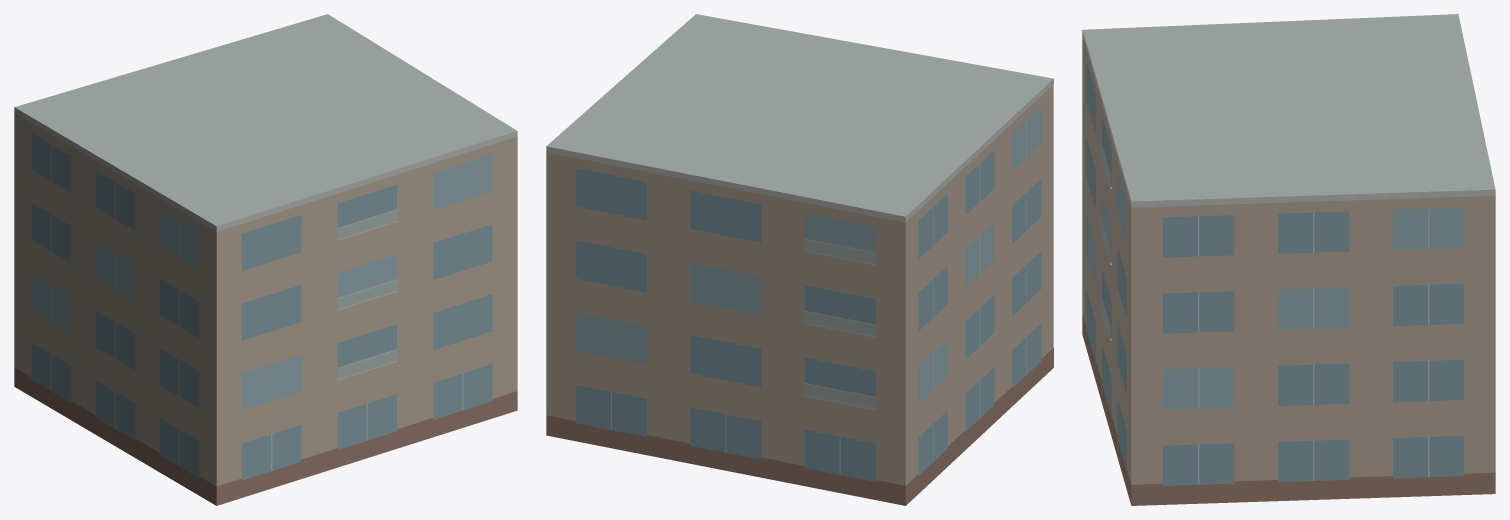
Rendered from survey-upis-32924828.glb.
3 views of the same model, side by side, from view 1: azimuth 30°, elevation 25°; view 2: azimuth 150°, elevation 25°; view 3: azimuth 270°, elevation 25° (orthographic). The views are drawn at different scales.
Visible parts, largest first — view 1: survey-upis-32924828.tmp; view 2: survey-upis-32924828.tmp; view 3: survey-upis-32924828.tmp.
Boxes of the visible parts, x1,y1,x2,y2 form: survey-upis-32924828.tmp: (14, 14, 517, 505); survey-upis-32924828.tmp: (546, 14, 1053, 505); survey-upis-32924828.tmp: (1082, 14, 1495, 505).
Size of the model in its own units: 16.13 by 12.2 by 15.02.
